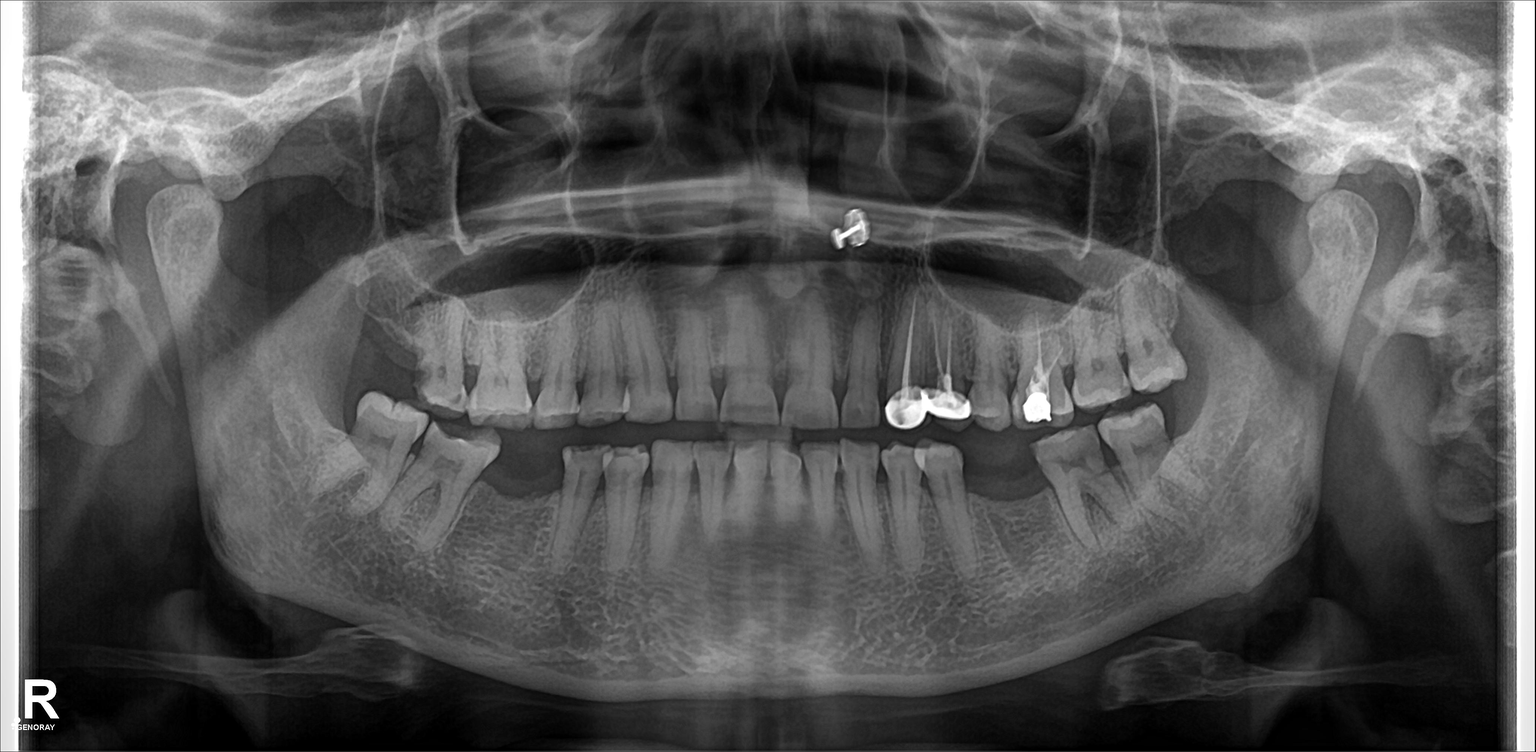Endodontically Treated Tooth: (931, 309, 976, 429), (1017, 328, 1067, 425), (894, 313, 927, 425)
Missing Tooth: (968, 445, 1049, 556), (495, 447, 557, 560), (356, 290, 422, 389), (1168, 387, 1205, 444)
